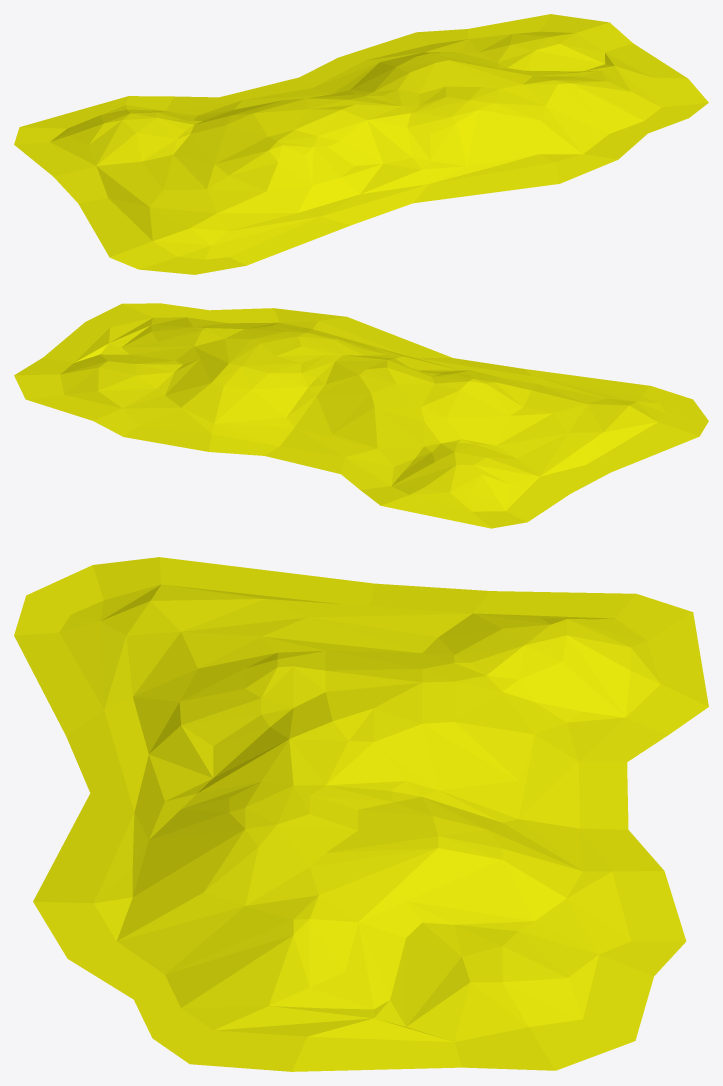
The model's file is SM_Generic_Mountains_Soft_01.glb.
3 views of the same model, one above another, from view 1: azimuth 30°, elevation 25°; view 2: azimuth 150°, elevation 25°; view 3: azimuth 270°, elevation 25° (orthographic). The views are drawn at different scales.
Visible parts, largest first — view 1: SM_Generic_Mountains_Soft_01; view 2: SM_Generic_Mountains_Soft_01; view 3: SM_Generic_Mountains_Soft_01.
Boxes of the visible parts, <box> form: SM_Generic_Mountains_Soft_01: <box>14,14,708,274</box>; SM_Generic_Mountains_Soft_01: <box>14,303,708,528</box>; SM_Generic_Mountains_Soft_01: <box>14,557,708,1071</box>.
Size of the model in its own units: 36.92 by 2.39 by 21.06.
Materials: 1 (1 with a texture image).
